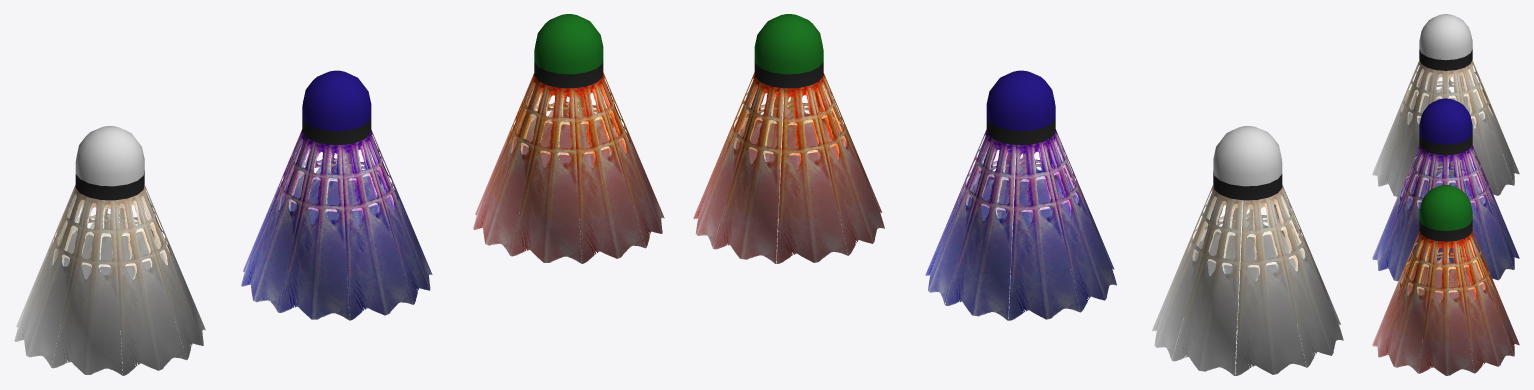
The model's file is birdies.glb.
3 renders of one model, left to right at view 1: azimuth 30°, elevation 25°; view 2: azimuth 150°, elevation 25°; view 3: azimuth 270°, elevation 25°, orthographic. The views are drawn at different scales.
Visible parts, largest first — view 1: Sphere, Sphere.001, Sphere.002; view 2: Sphere.001, Sphere, Sphere.002; view 3: Sphere.002, Sphere, Sphere.001.
Boxes of the visible parts, x1,y1,x2,y2 form: Sphere: [241, 70, 432, 320]; Sphere.001: [14, 126, 205, 375]; Sphere.002: [473, 14, 664, 263]; Sphere.001: [1152, 126, 1343, 375]; Sphere: [925, 70, 1116, 320]; Sphere.002: [693, 14, 884, 263]; Sphere.002: [1372, 185, 1519, 375]; Sphere: [1372, 98, 1519, 281]; Sphere.001: [1372, 14, 1519, 196].
Size of the model in its own units: 3.3 by 1.04 by 0.8829.
7 materials, 3 textured.
